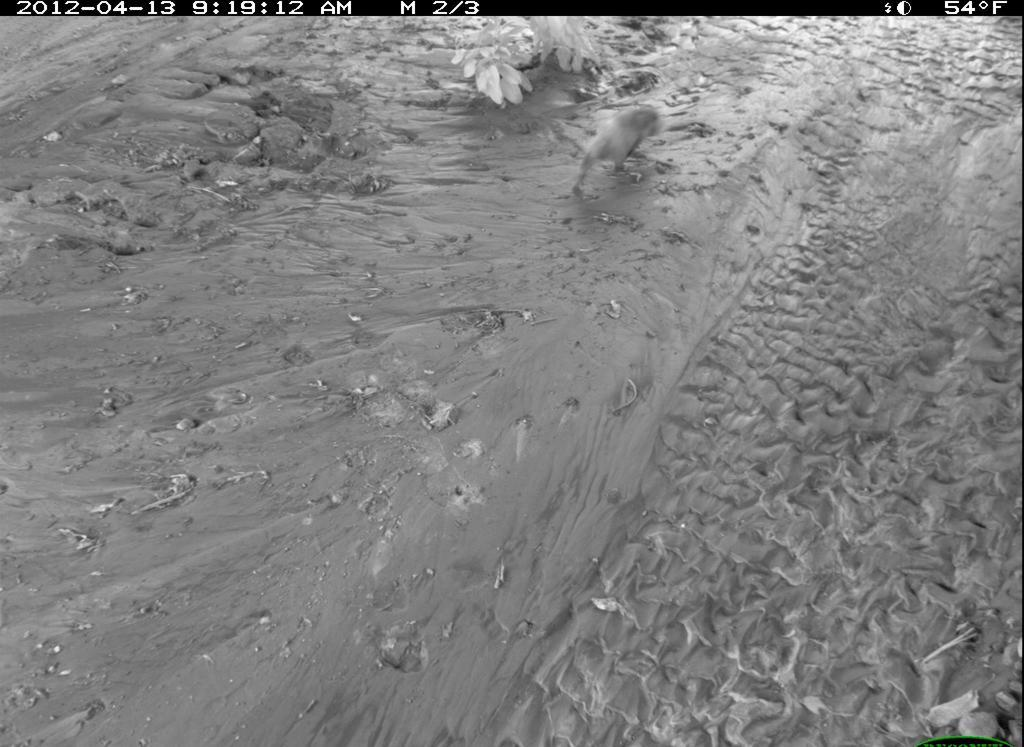opossum: (564, 80, 705, 204)
